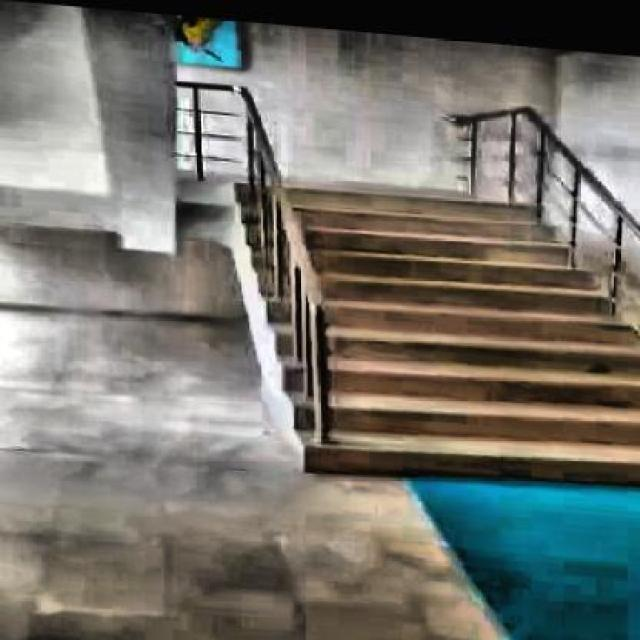stair: (222, 170, 638, 487)
